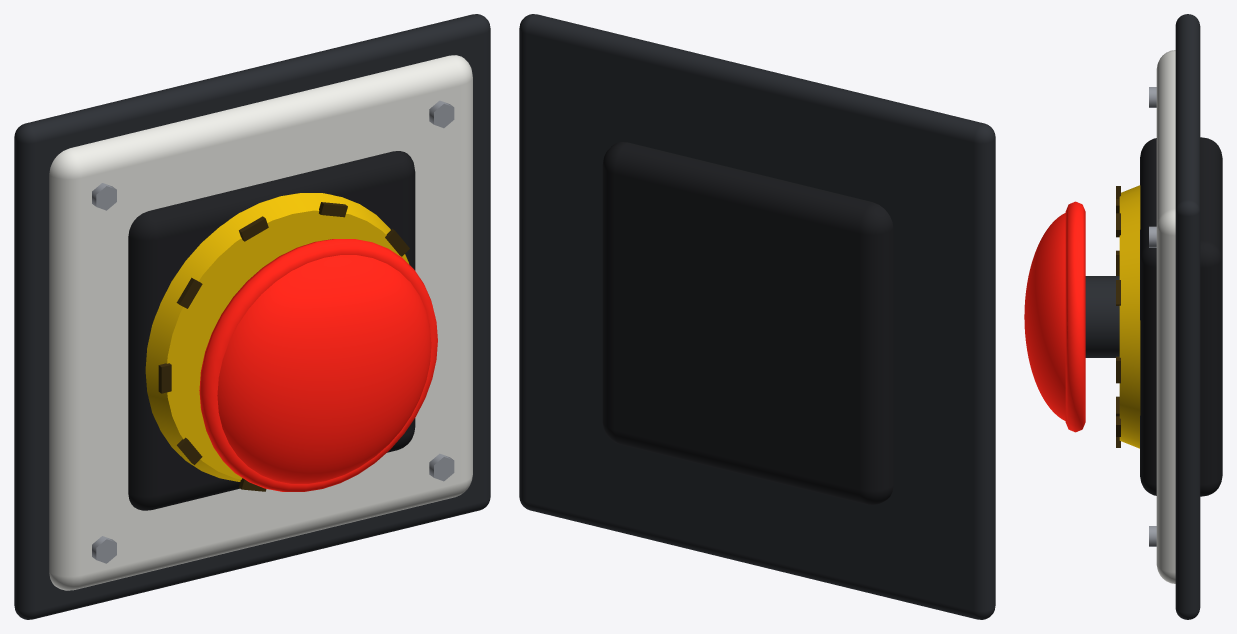
The model's file is push_mushroom_wall.glb.
3 renders of one model, left to right at view 1: azimuth 30°, elevation 25°; view 2: azimuth 150°, elevation 25°; view 3: azimuth 270°, elevation 25°, orthographic. The views are drawn at different scales.
Visible parts, largest first — view 1: group, cap; view 2: group; view 3: group, cap.
Part boxes in pixels (x1,y1,x2,y2): group: (14, 14, 490, 619); cap: (199, 239, 437, 491); group: (519, 14, 995, 619); group: (1119, 14, 1222, 619); cap: (1024, 201, 1119, 432).
Size of the model in its own units: 0.56 by 0.56 by 0.24.
